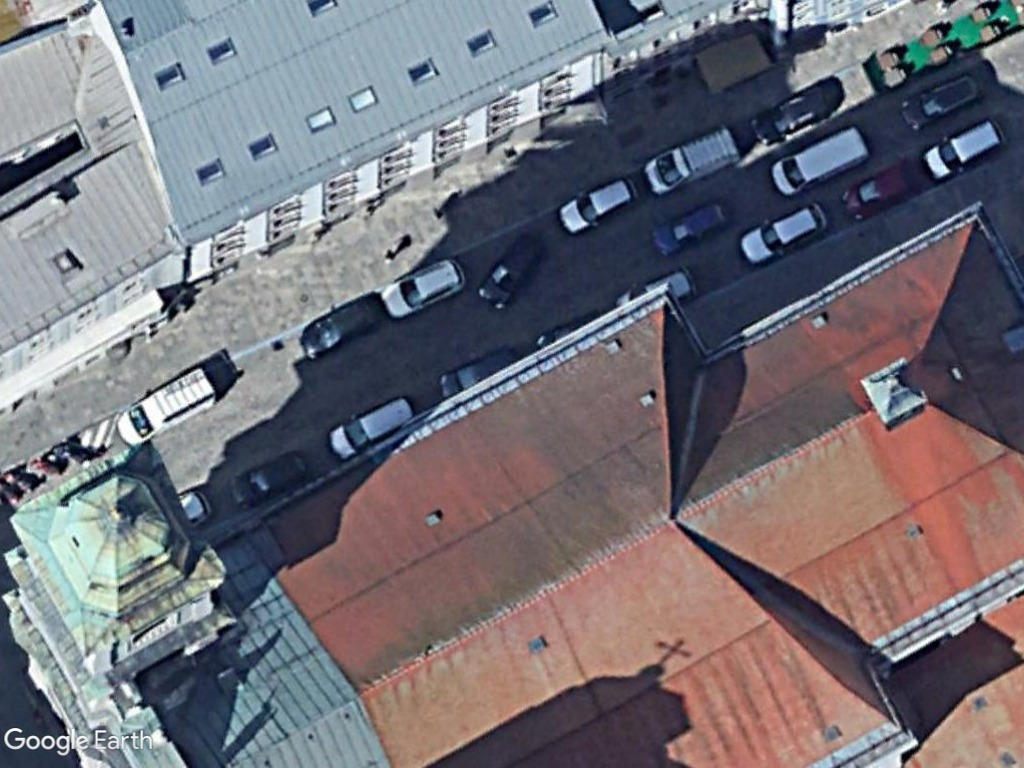car: (734, 192, 832, 268), (327, 389, 422, 464), (375, 249, 471, 319), (917, 113, 1007, 186), (223, 440, 314, 512), (835, 151, 924, 224), (645, 191, 736, 262), (743, 80, 829, 153), (295, 294, 387, 360), (896, 65, 987, 129), (553, 173, 641, 236)
van: (109, 357, 222, 448), (765, 118, 873, 205), (638, 119, 744, 197)
